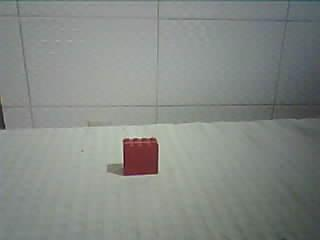lego: (123, 137, 159, 175)
